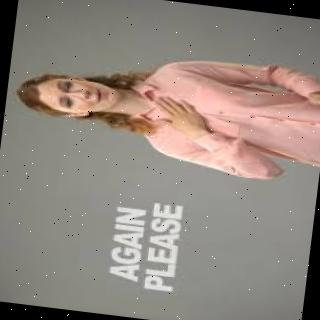Please: (148, 88, 217, 142)
